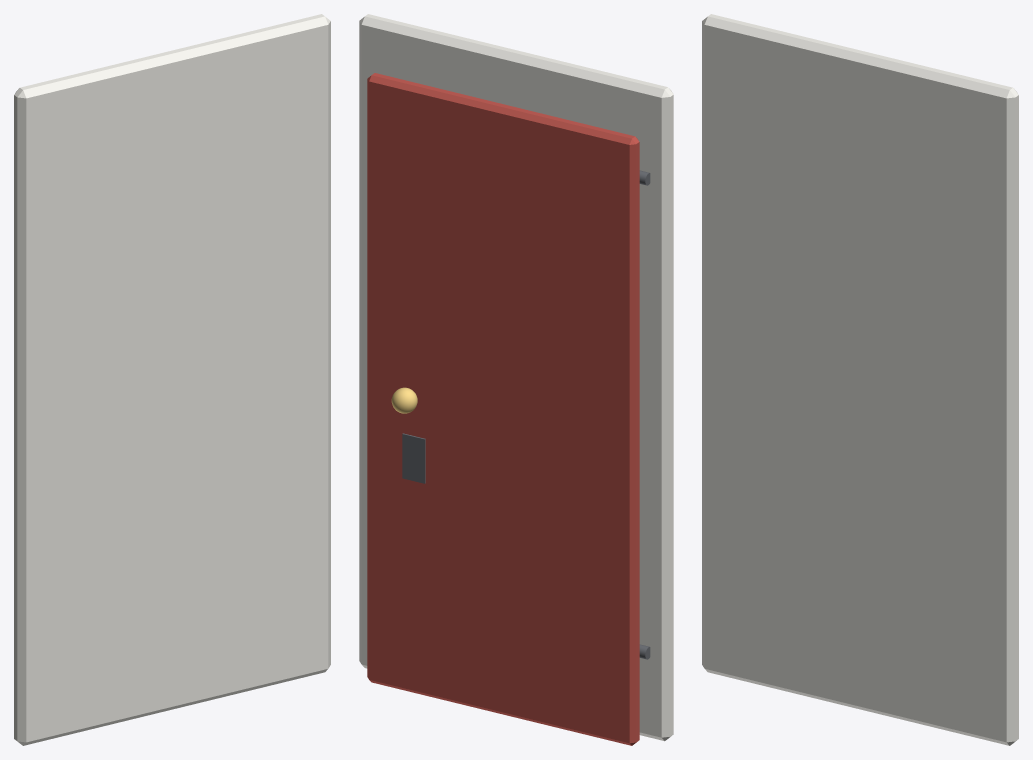
Rendered from door_front.glb.
The picture shows the model from 3 angles, left to right: view 1: azimuth 30°, elevation 25°; view 2: azimuth 150°, elevation 25°; view 3: azimuth 330°, elevation 25°; orthographic projection.
Visible parts, largest first — view 1: frame; view 2: panel, frame, lock_plate, knob; view 3: frame.
Boxes of the visible parts, <box> form: frame: <box>14,14,330,745</box>; panel: <box>367,73,639,745</box>; frame: <box>359,14,673,741</box>; lock_plate: <box>402,433,425,483</box>; knob: <box>391,387,417,413</box>; frame: <box>702,14,1018,745</box>.
Size of the model in its own units: 1.1 by 2.2 by 0.2.
